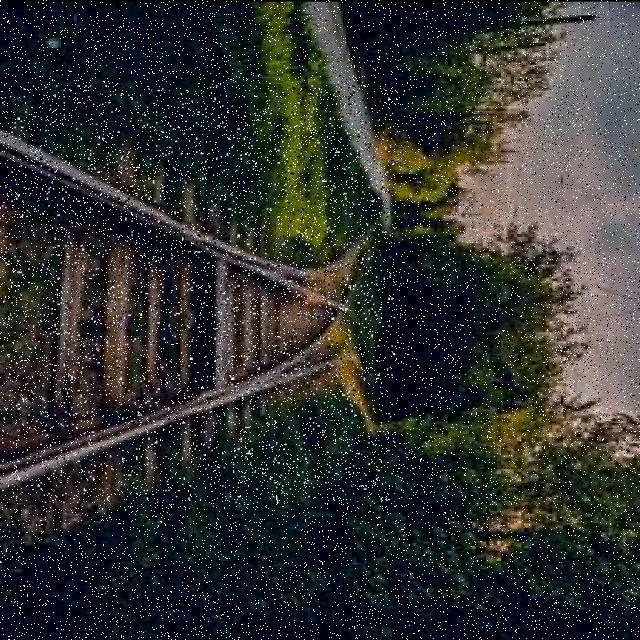rail: (4, 85, 395, 501)
